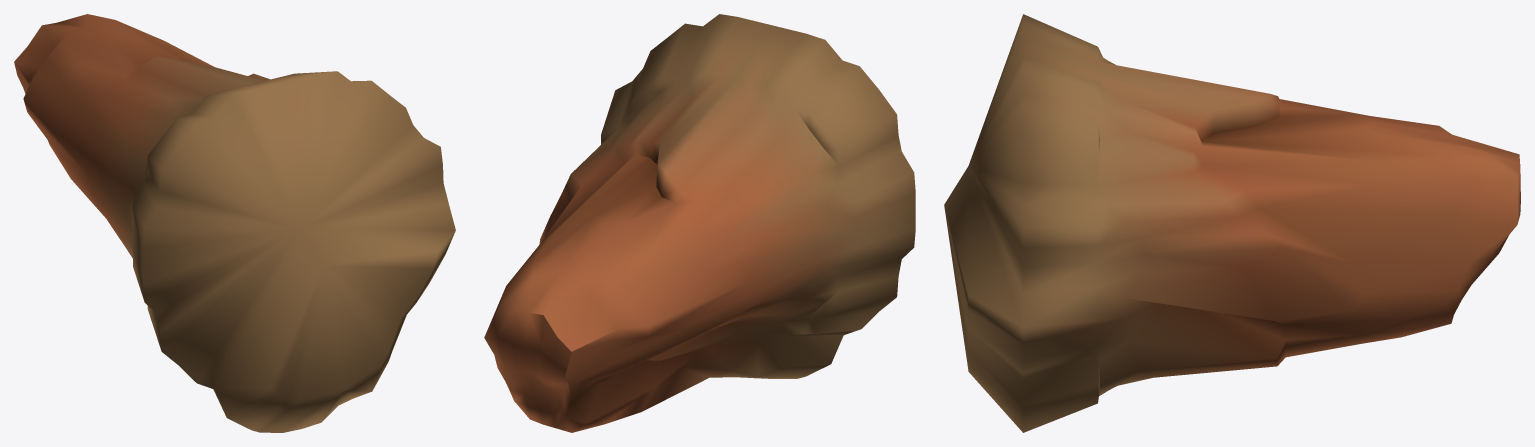
Rendered from RedStoneMountain.004.glb.
3 renders of one model, left to right at view 1: azimuth 30°, elevation 25°; view 2: azimuth 150°, elevation 25°; view 3: azimuth 270°, elevation 25°, orthographic. The views are drawn at different scales.
Parts seen in each view (by area): view 1: RedStoneMountain.004; view 2: RedStoneMountain.004; view 3: RedStoneMountain.004.
Part boxes in pixels (<box>): RedStoneMountain.004: <box>14,14,455,432</box>; RedStoneMountain.004: <box>484,14,915,432</box>; RedStoneMountain.004: <box>944,14,1520,432</box>.
Bounding box in the file's own units: 2449 × 2623 × 3704.
